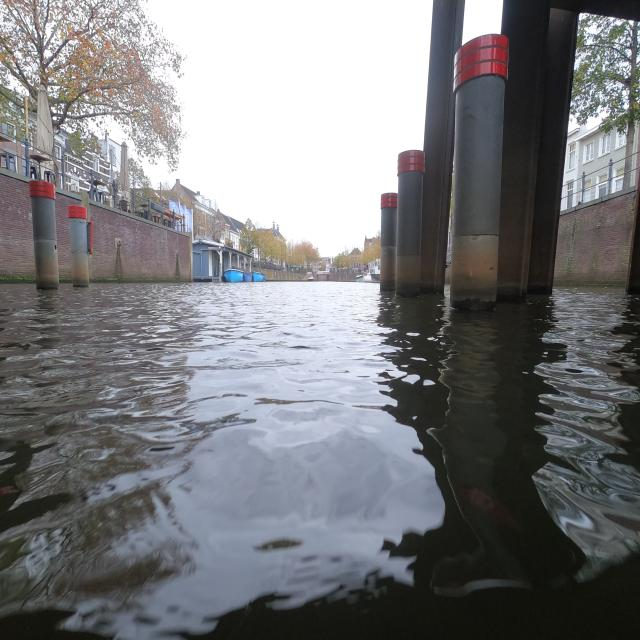boat: (0, 276, 640, 640), (357, 259, 380, 282), (224, 268, 244, 282), (252, 271, 265, 281)
sky: (150, 4, 426, 250)
tree: (0, 4, 188, 210), (570, 10, 638, 132)
wall: (382, 126, 450, 294), (558, 182, 638, 288), (90, 200, 190, 278), (2, 172, 36, 280)
water: (0, 278, 640, 640)
